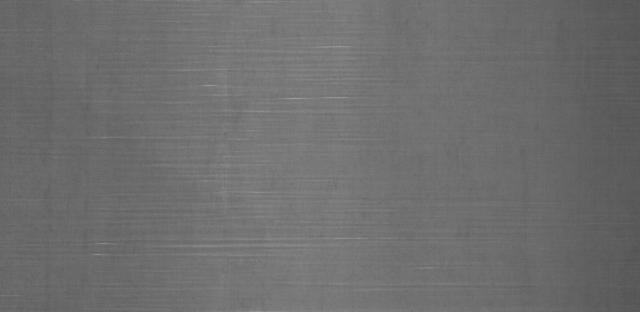waist_folding: (23, 8, 610, 270)
